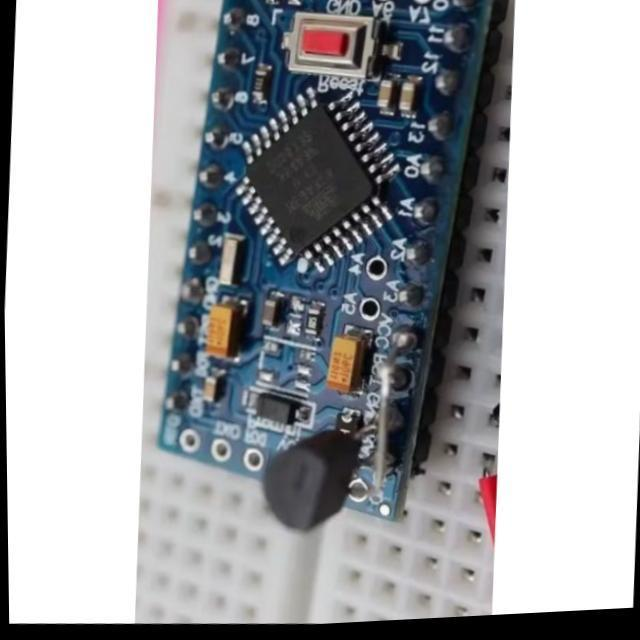Arduino-ProMini: (159, 1, 489, 531)
